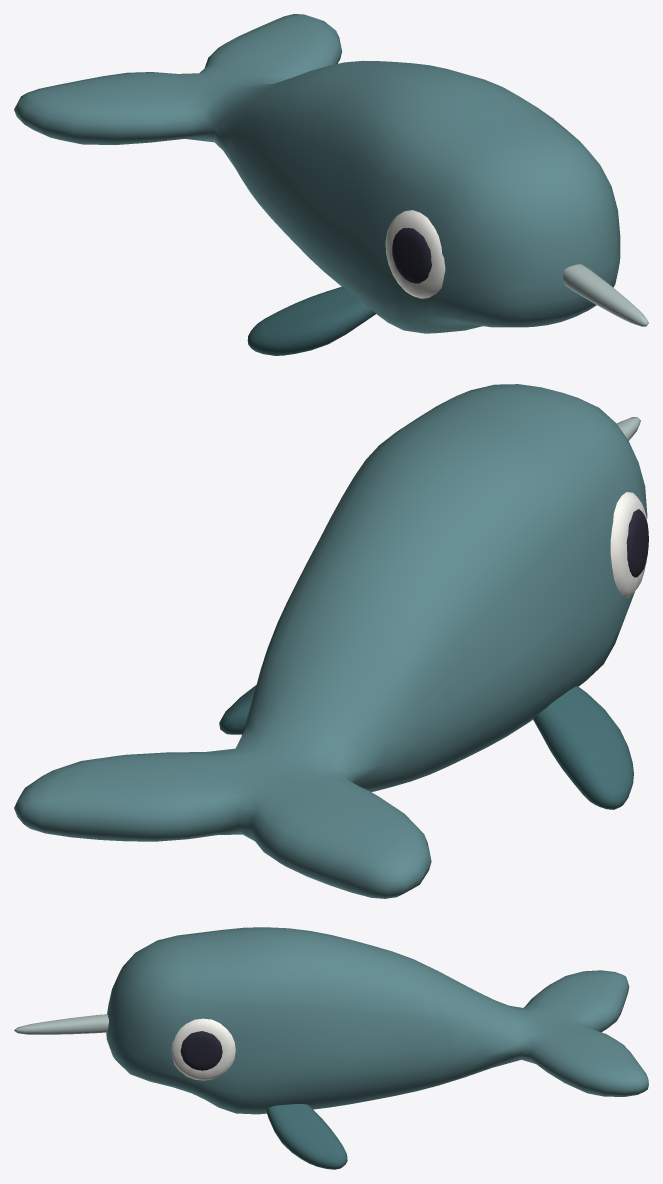
File: Narwhal.glb
3 renders of one model, top to bottom at view 1: azimuth 30°, elevation 25°; view 2: azimuth 150°, elevation 25°; view 3: azimuth 270°, elevation 25°, orthographic. The views are drawn at different scales.
Visible parts, largest first — view 1: Narwhal; view 2: Narwhal; view 3: Narwhal.
Boxes of the visible parts, left/top/right/bottom form: Narwhal: left=14, top=14, right=648, bottom=355; Narwhal: left=14, top=384, right=648, bottom=898; Narwhal: left=14, top=927, right=648, bottom=1169.
Size of the model in its own units: 1.88 by 1.25 by 4.03.
1 material, 1 textured.
